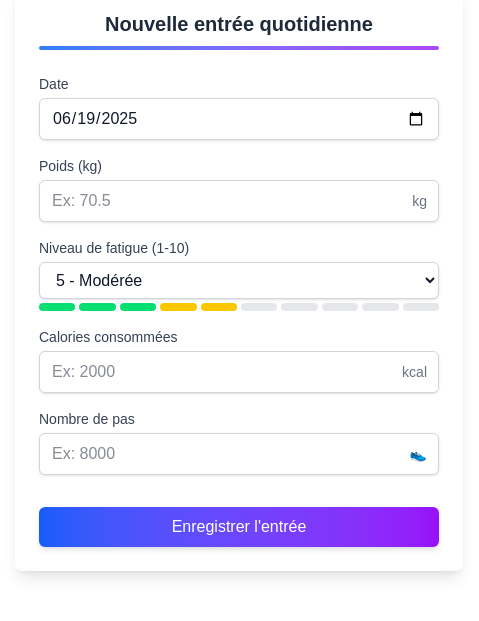
Test: DailyEntryForm Component › should validate weight range
Test weight too low
Type "25" into the number field labelled "Poids (kg)" at (239, 201), box [39,180,439,222]
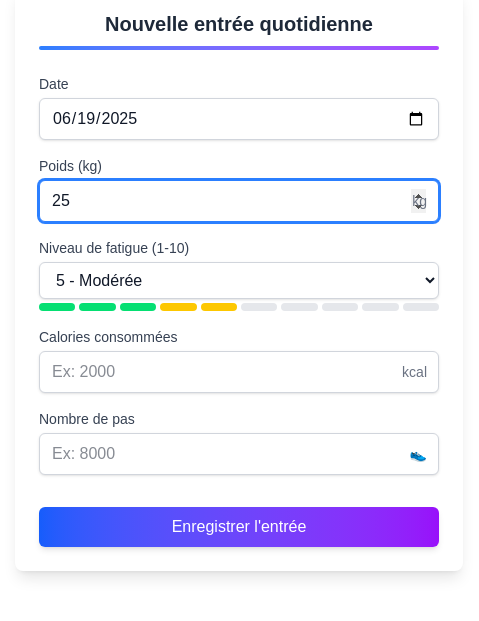
Leave the number field labelled "Poids (kg)", box [39,180,439,222]
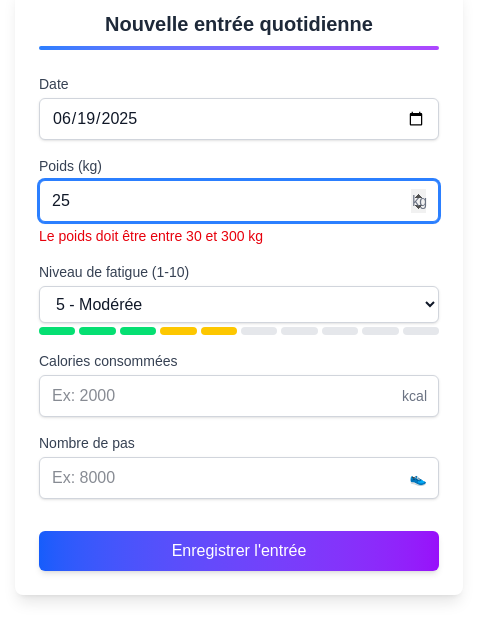
Check: the text "Le poids doit être entre 30 et 300 kg" is shown, box [39,228,263,244]
Clear the error by entering a valid value
Replace the text in the number field labelled "Poids (kg)" with "70" at (239, 201), box [39,180,439,222]
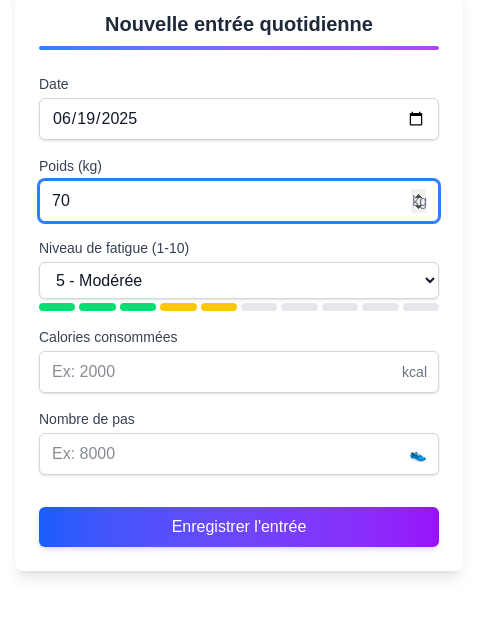
Test weight too high
Replace the text in the number field labelled "Poids (kg)" with "350" at (239, 201), box [39,180,439,222]
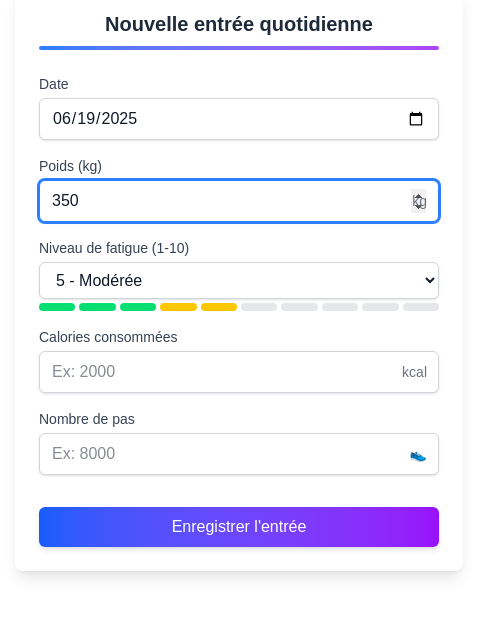
Leave the number field labelled "Poids (kg)", box [39,180,439,222]
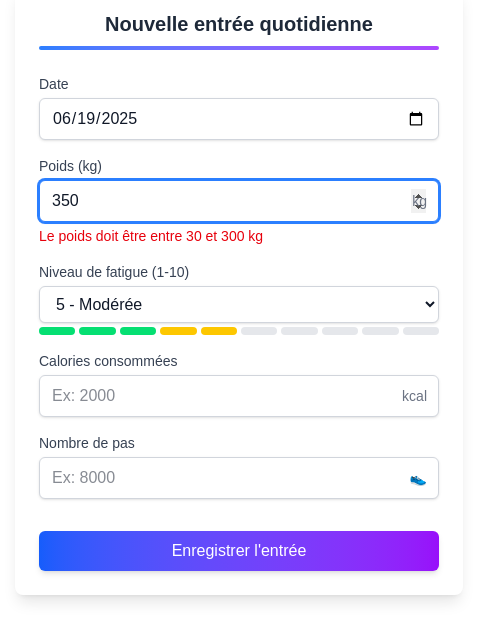
Check: the text "Le poids doit être entre 30 et 300 kg" is shown, box [39,228,263,244]
